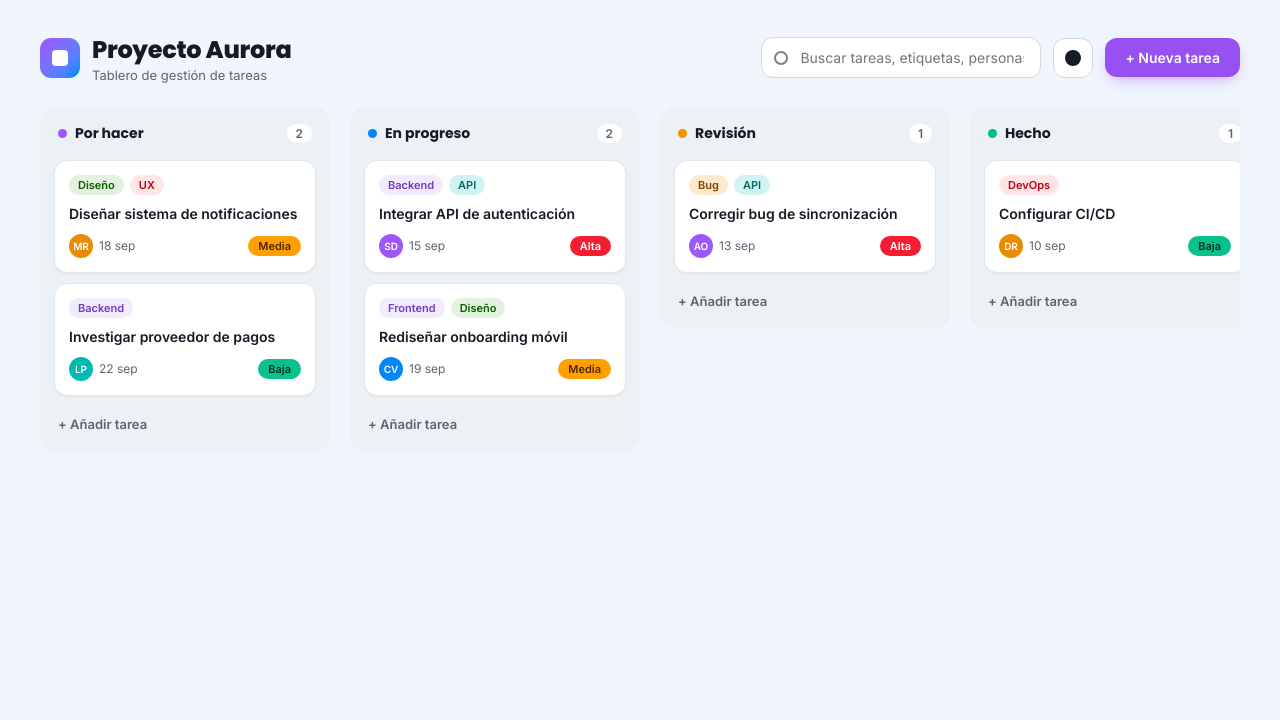
Test: Task create/edit modal › edits an existing task and reflects the new field values
The width and height of the screenshot is (1280, 720).
Click the text "Corregir bug de sincronización": point(805, 214) [689, 205, 921, 224]
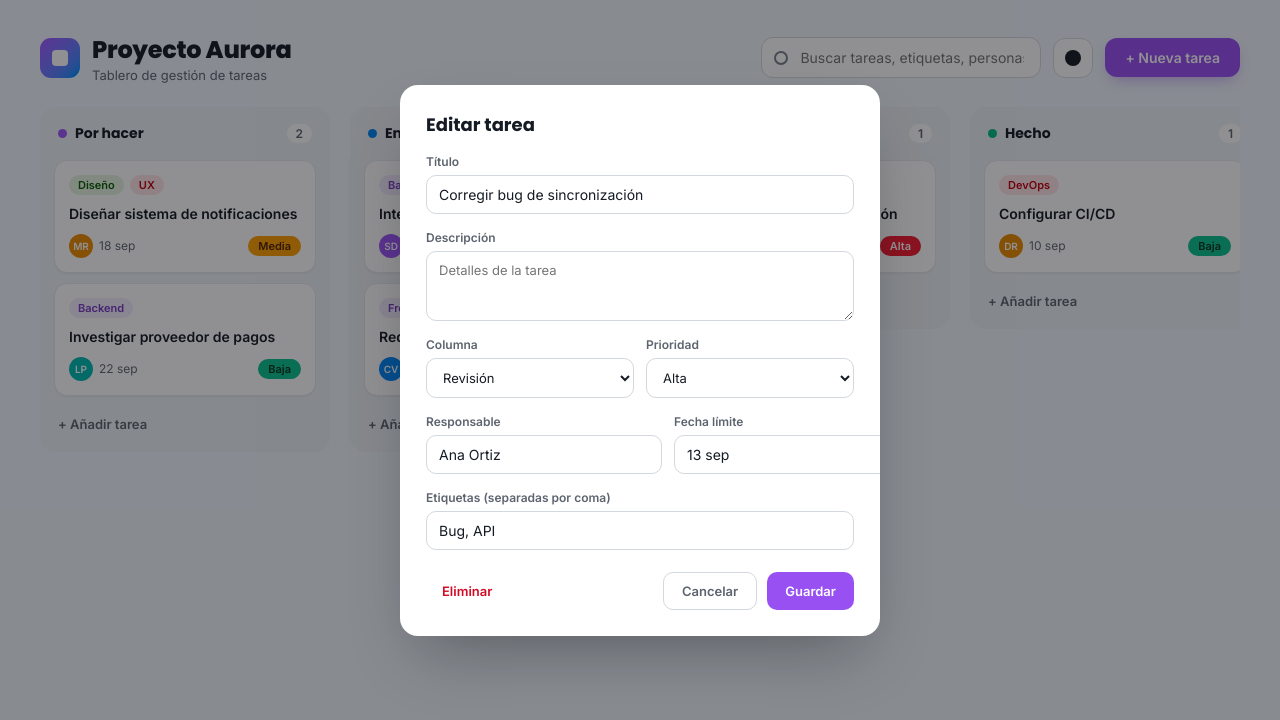
Replace the text in the field with placeholder "Nombre de la tarea" below "Título" with "Bug de sincronización resuelto": point(640, 194) [426, 174, 854, 214]
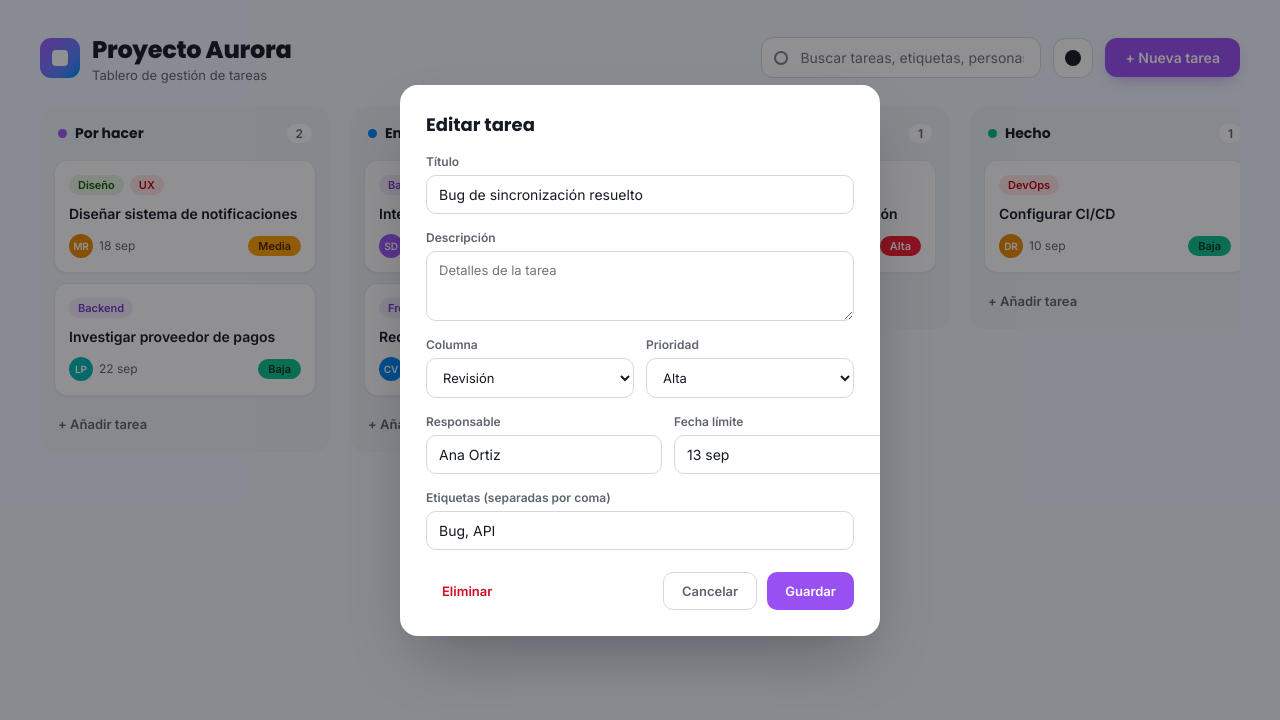
Click the button "Guardar": point(811, 590) [767, 572, 854, 610]
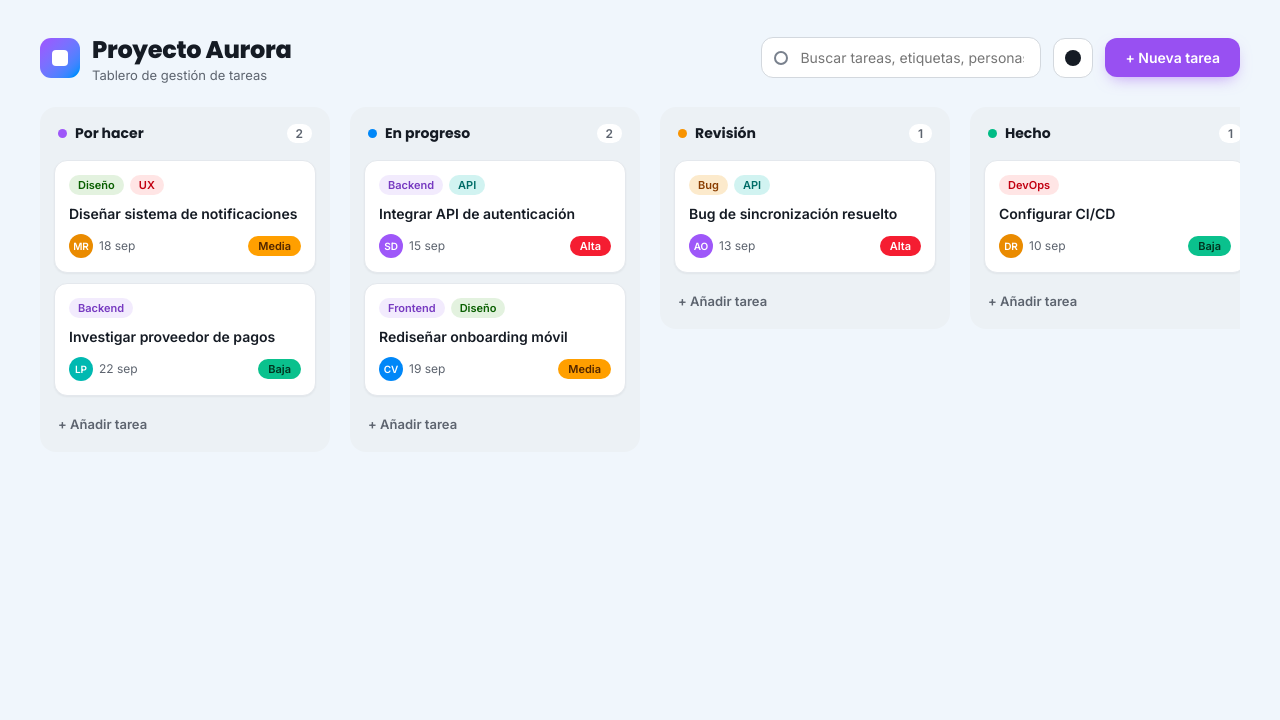
Check: the text "Corregir bug de sincronización" is gone
Check: the text "Bug de sincronización resuelto" is shown, box [689, 205, 921, 224]
